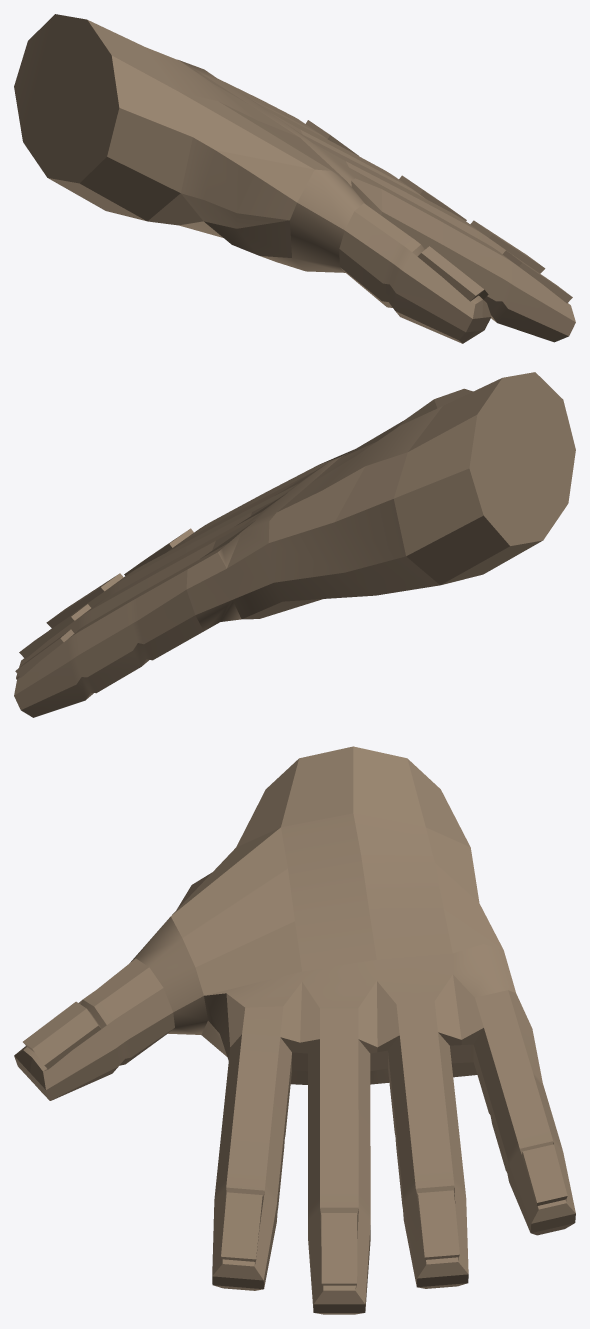
The model's file is Mano2.fbx.
The picture shows the model from 3 angles, top to bottom: view 1: azimuth 30°, elevation 25°; view 2: azimuth 150°, elevation 25°; view 3: azimuth 270°, elevation 25°; orthographic projection. The views are drawn at different scales.
Visible parts, largest first — view 1: Mano2; view 2: Mano2; view 3: Mano2.
Part boxes in pixels (left/top/right/bottom): Mano2: left=14, top=14, right=575, bottom=343; Mano2: left=14, top=372, right=575, bottom=717; Mano2: left=14, top=746, right=575, bottom=1314.
Bounding box in the file's own units: 37.32 × 28.58 × 39.35.
